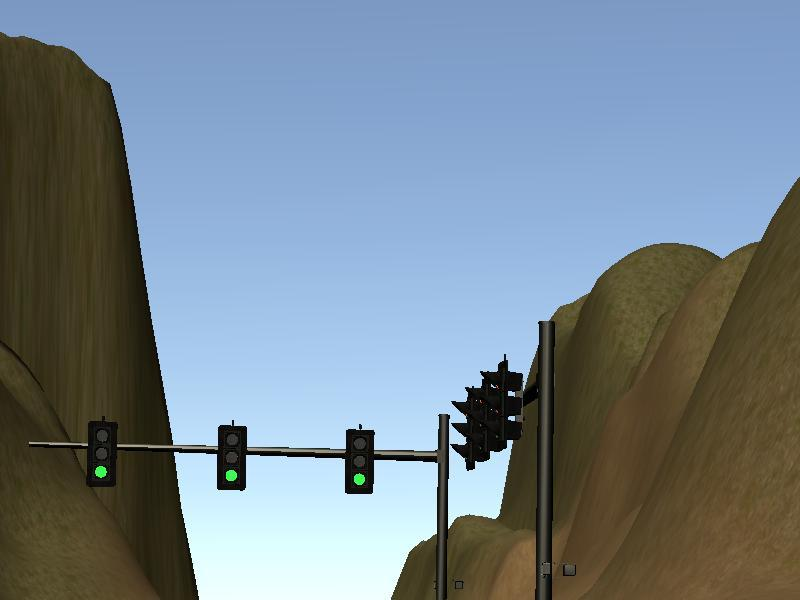Green: (87, 420, 117, 486), (345, 428, 375, 494), (217, 425, 247, 491)
